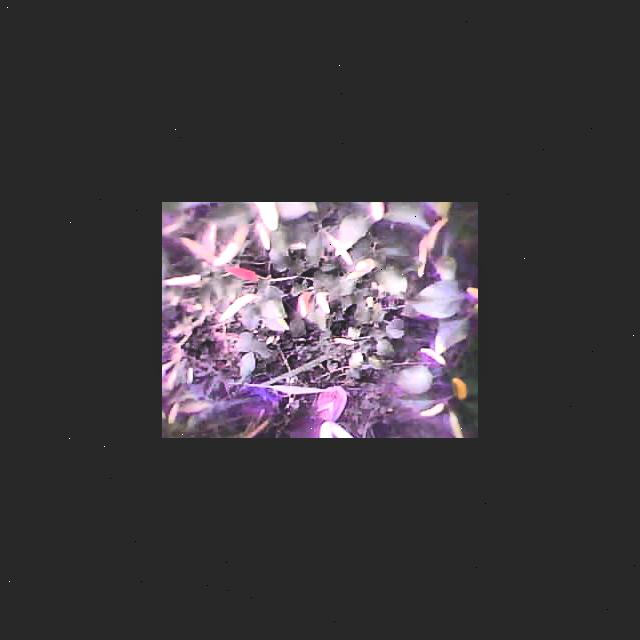Cabai: (227, 265, 265, 289), (299, 288, 315, 320)
